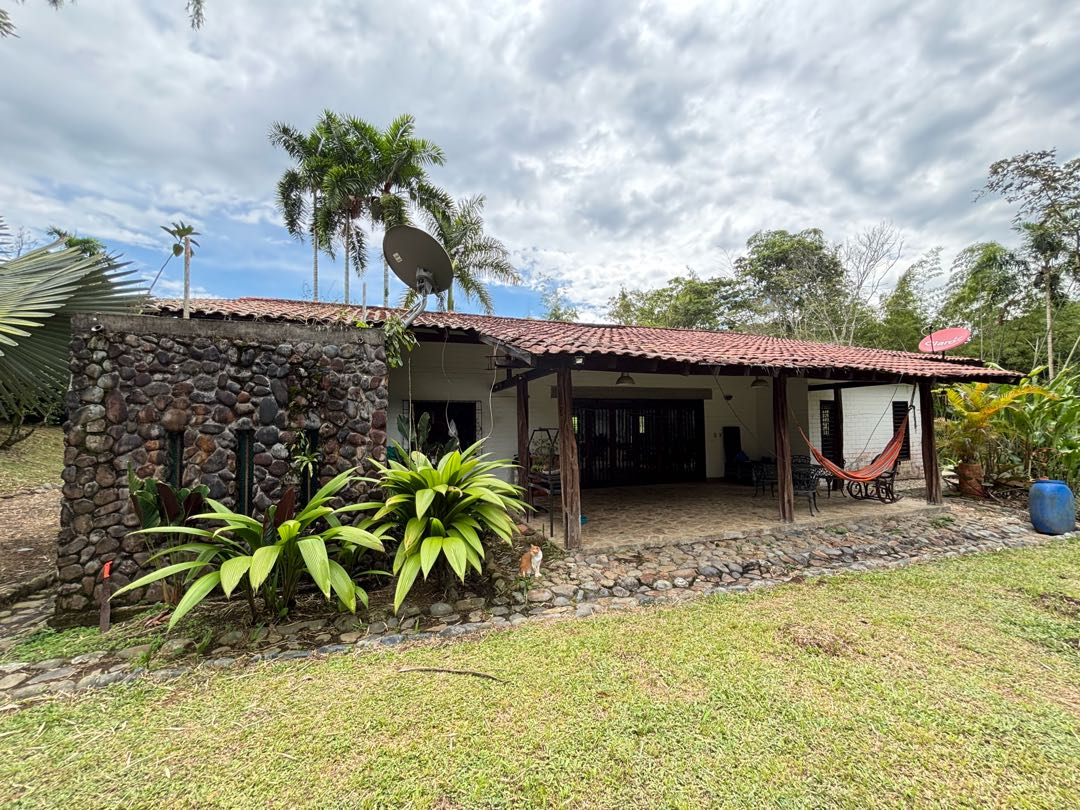House: (55, 246, 994, 585)
